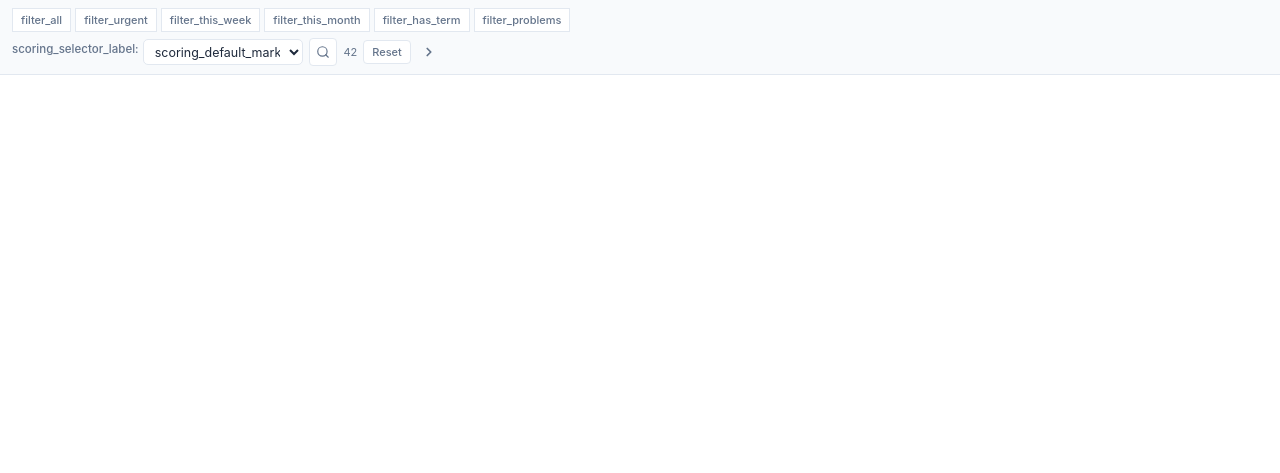
InboxFilterBar › shows advanced filters when expand button clicked
Expected: the text "filter_new_revision" is not shown
Click the button named "filter_expand": (429, 52) [417, 40, 441, 64]
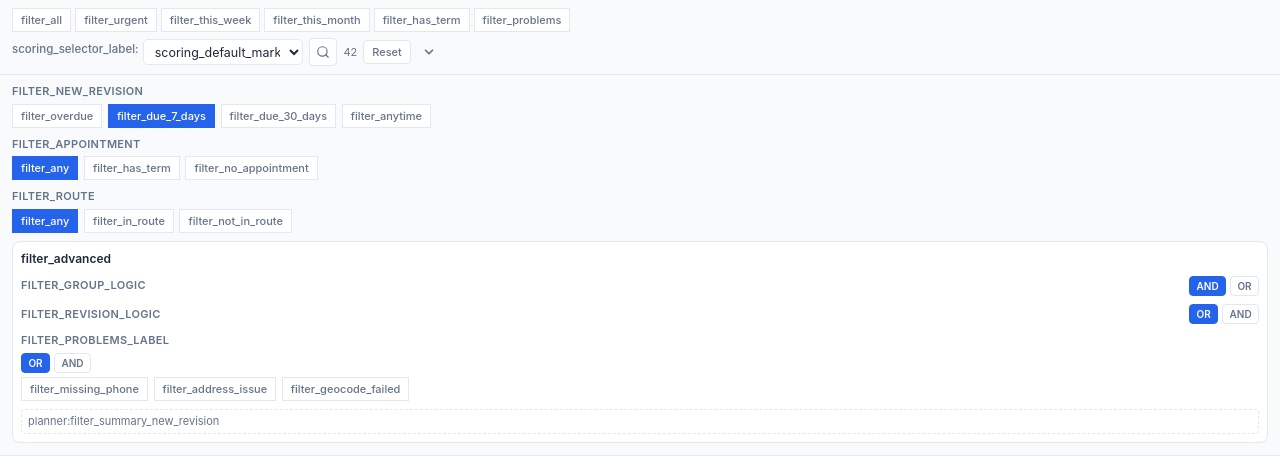
Result: the text "filter_new_revision" is shown at [12, 84, 143, 98]
Result: the text "filter_appointment" is shown at [12, 136, 141, 150]
Result: the text "filter_route" is shown at [12, 189, 95, 203]
